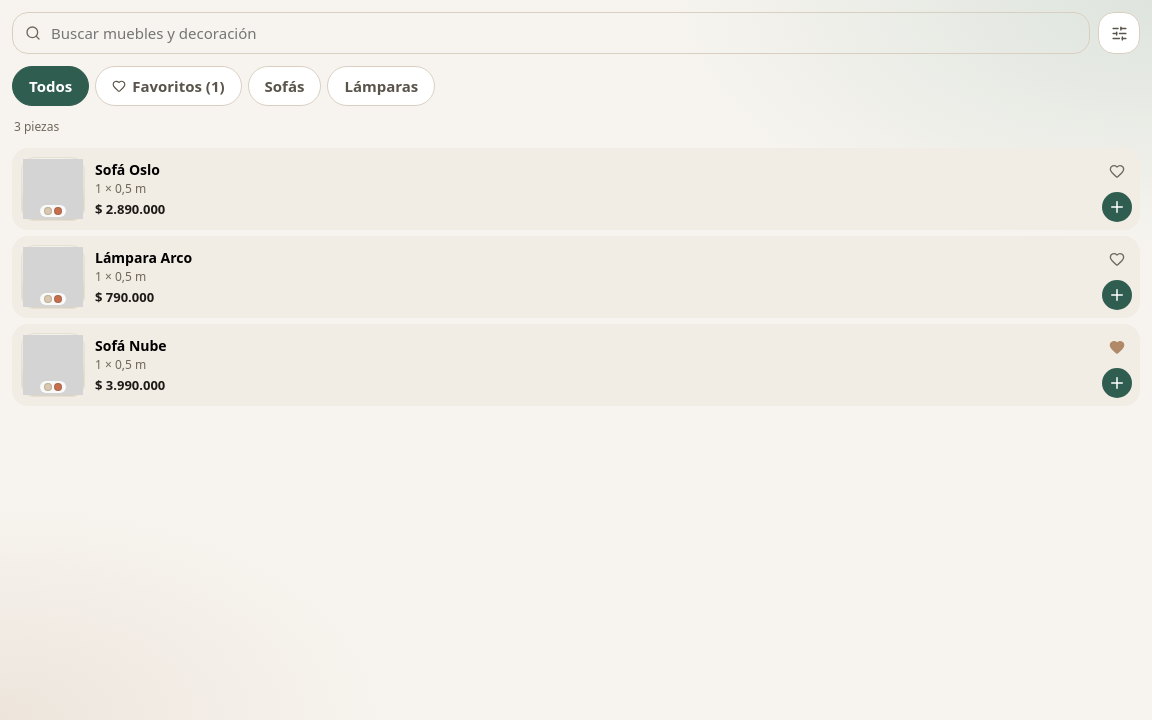
Test: catalog panel › keeps favorites from the server and saves a new one
The image size is (1152, 720).
Step 1. Click the tab "Favoritos (1)" → (168, 86), box [95,66,242,106]
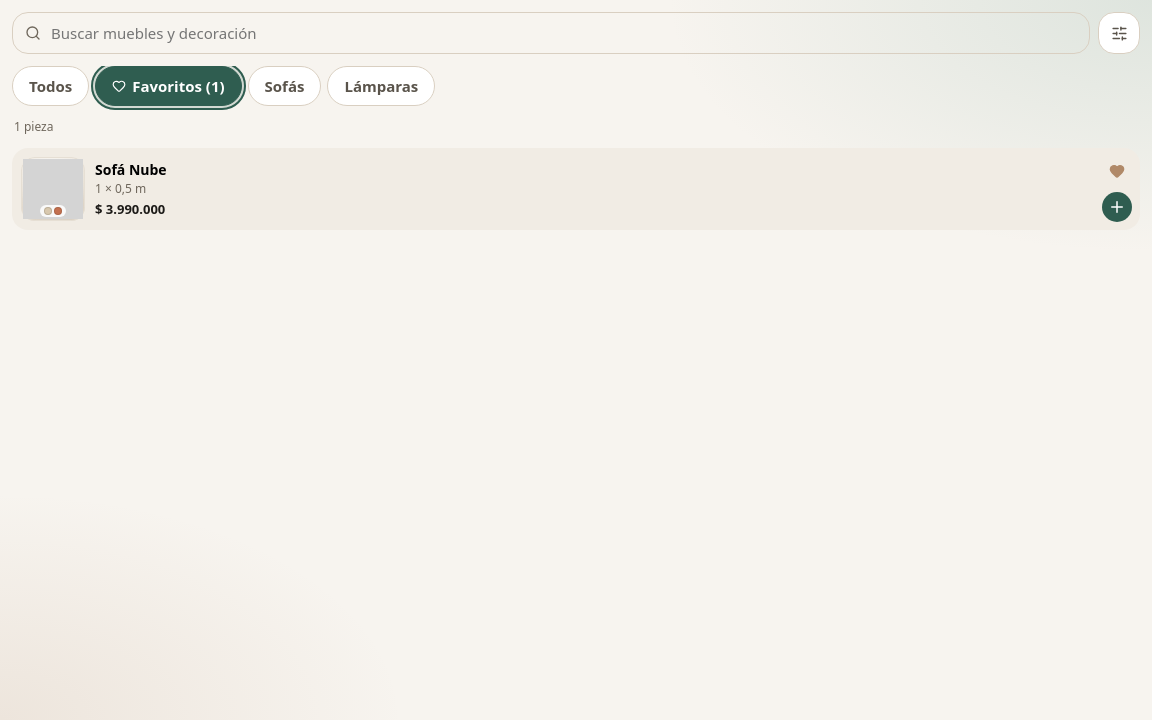
Step 2. Click the tab "Todos" → (51, 86), box [12,66,89,106]
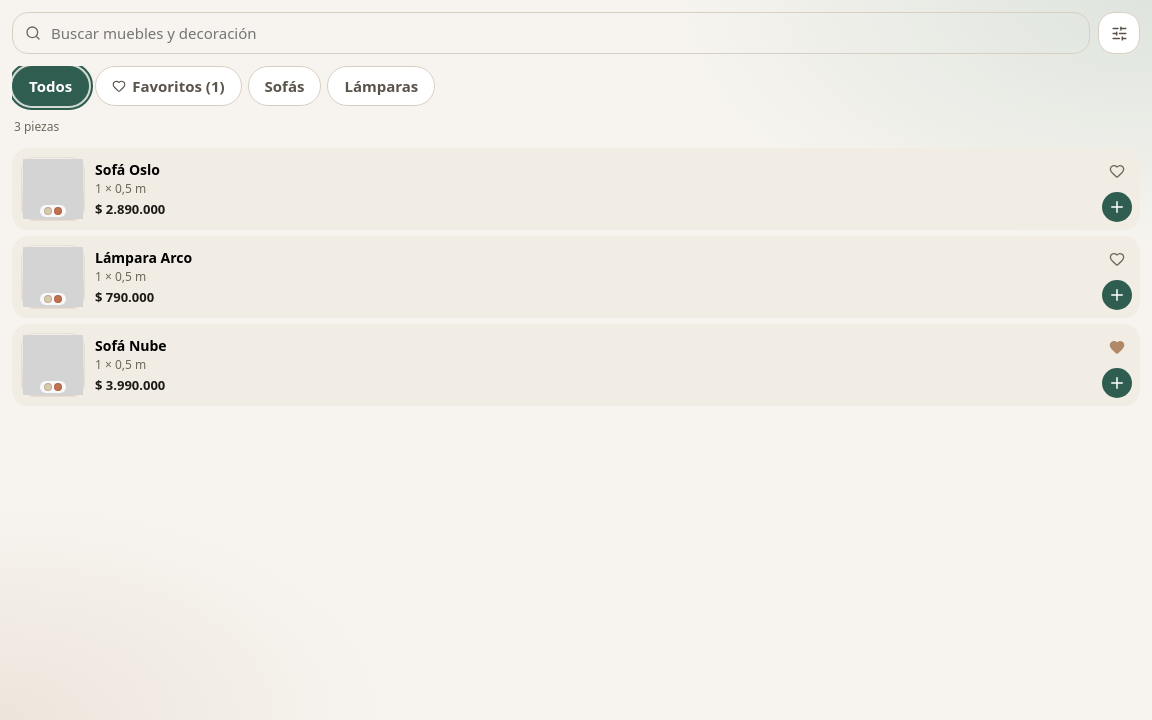
Step 3. Click the button named "Guardar Sofá Oslo en favoritos" → (1117, 171), box [1102,156,1132,186]
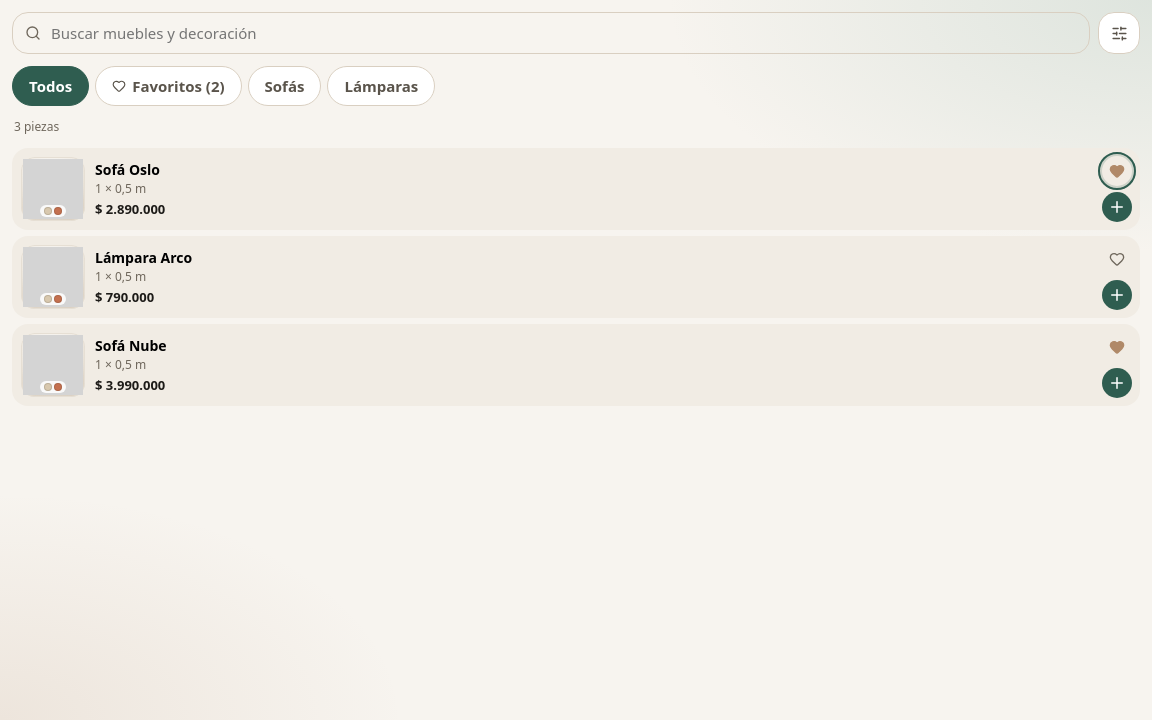
Result: the tab "Favoritos (2)" is shown at [95,66,242,106]
